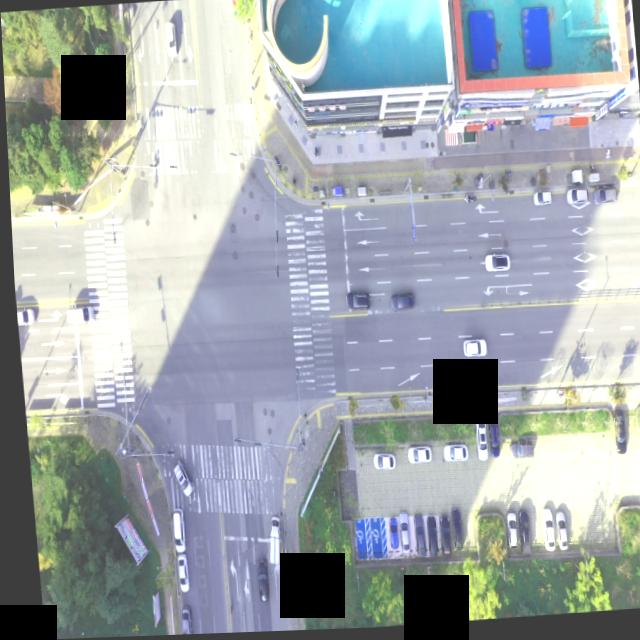car: (607, 409, 622, 459), (167, 463, 187, 500), (165, 509, 180, 553), (249, 558, 263, 602), (62, 307, 92, 327), (502, 444, 530, 464), (432, 518, 445, 559), (342, 293, 368, 313), (408, 518, 421, 557), (419, 518, 432, 557), (513, 515, 525, 557), (481, 256, 506, 276), (438, 445, 463, 465), (392, 513, 405, 551), (469, 423, 481, 464), (444, 511, 456, 552), (458, 341, 482, 361), (387, 296, 411, 315), (170, 554, 182, 592), (480, 422, 493, 457), (538, 514, 549, 554), (401, 448, 425, 466), (590, 191, 614, 209), (550, 514, 561, 551), (368, 454, 390, 472), (162, 19, 173, 55), (562, 192, 585, 209), (500, 515, 510, 552), (172, 606, 184, 636), (382, 517, 392, 552), (13, 308, 30, 326), (530, 193, 548, 209)
small_truck: (259, 513, 277, 573)
